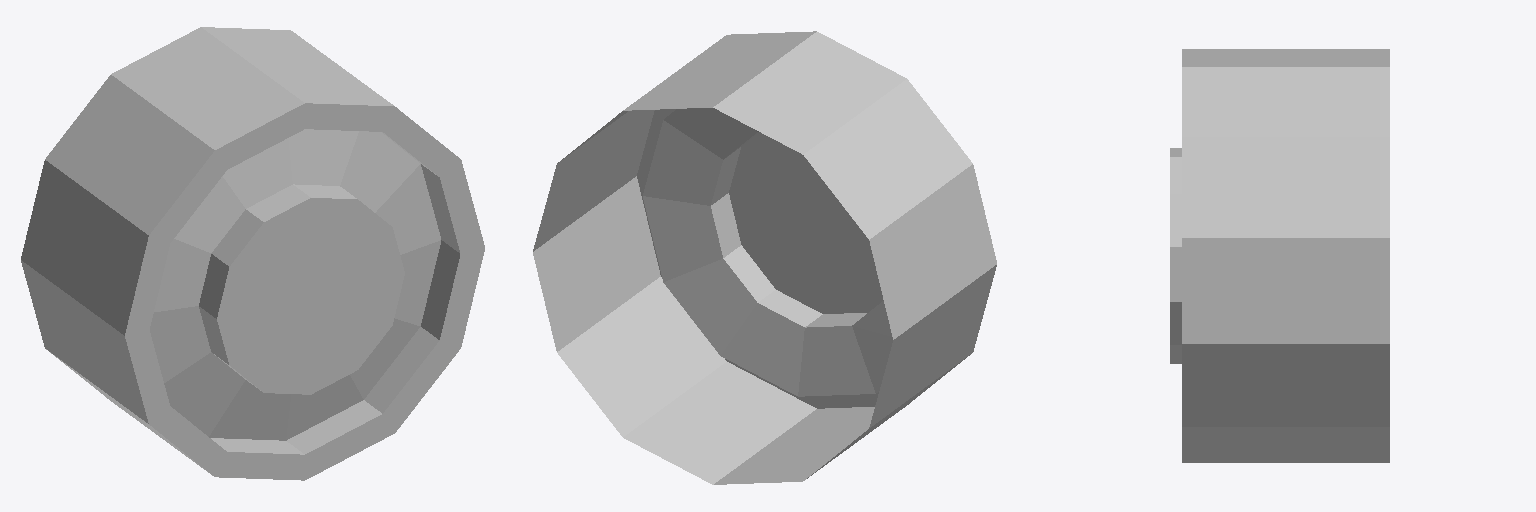
Rendered from TankPort.obj.
3 views of the same model, side by side, from view 1: azimuth 30°, elevation 25°; view 2: azimuth 150°, elevation 25°; view 3: azimuth 270°, elevation 25° (orthographic).
Parts seen in each view (by area): view 1: Port.001_Cube.006; view 2: Port.001_Cube.006; view 3: Port.001_Cube.006.
Part boxes in pixels (bbox=[...]): Port.001_Cube.006: bbox=[21, 27, 484, 480]; Port.001_Cube.006: bbox=[533, 31, 996, 484]; Port.001_Cube.006: bbox=[1170, 49, 1389, 462].
Size of the model in its own units: 1 by 1 by 0.5285.